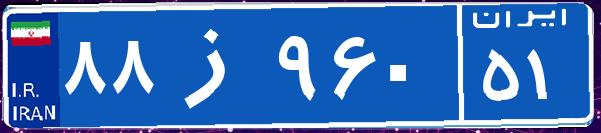0: (385, 28, 445, 110)
1: (525, 38, 570, 115)
5: (475, 38, 525, 113)
6: (330, 28, 385, 110)
8: (57, 26, 110, 107), (110, 28, 158, 105)
9: (273, 28, 330, 110)
ز: (158, 15, 273, 115)
